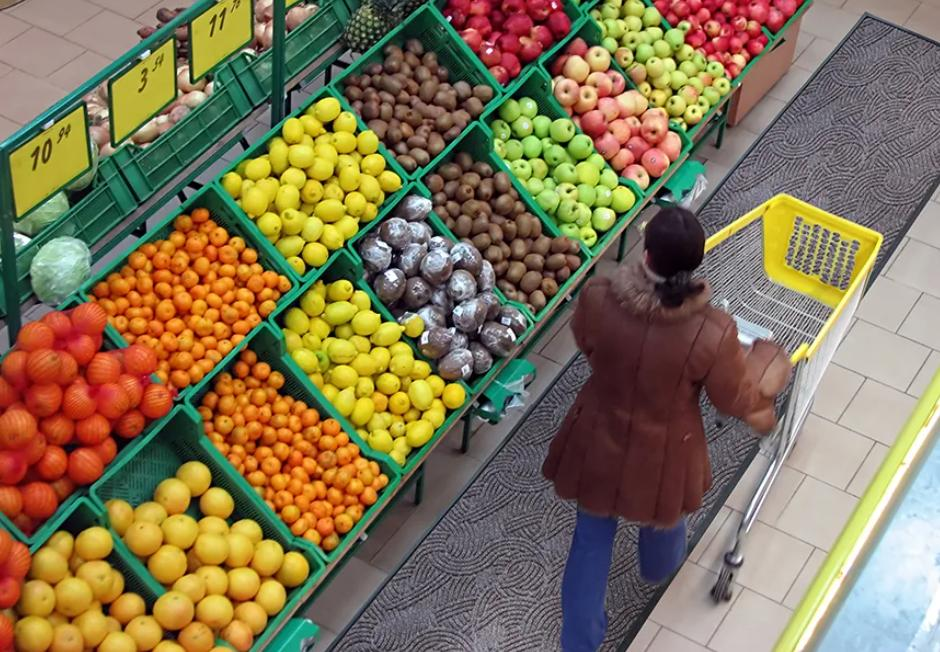green apple: (491, 99, 630, 247), (588, 0, 725, 131)
lemon: (282, 278, 468, 465), (224, 104, 404, 273)
mandarin: (194, 352, 381, 556), (94, 226, 290, 391)
orange: (3, 302, 170, 528), (118, 472, 316, 640), (0, 524, 168, 652)
pineapple: (341, 0, 404, 60)
red apple: (555, 42, 678, 188), (440, 0, 572, 80), (656, 0, 766, 80)
